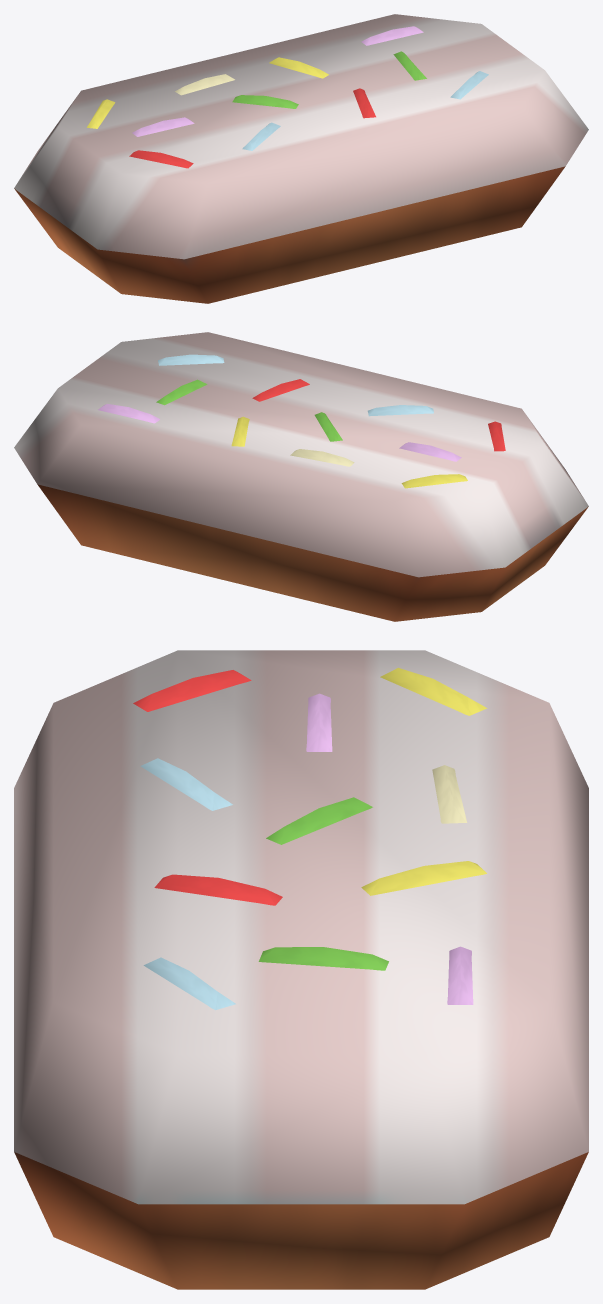
The model's file is Doughnut_Bar_G_2.FBX.
3 views of the same model, one above another, from view 1: azimuth 30°, elevation 25°; view 2: azimuth 150°, elevation 25°; view 3: azimuth 270°, elevation 25° (orthographic). The views are drawn at different scales.
Visible parts, largest first — view 1: Doughnut_Bar; view 2: Doughnut_Bar; view 3: Doughnut_Bar.
Part boxes in pixels (left/top/right/bottom): Doughnut_Bar: left=14, top=14, right=588, bottom=303; Doughnut_Bar: left=14, top=332, right=588, bottom=621; Doughnut_Bar: left=14, top=650, right=588, bottom=1289.
Size of the model in its own units: 75.48 by 18.74 by 39.15.
